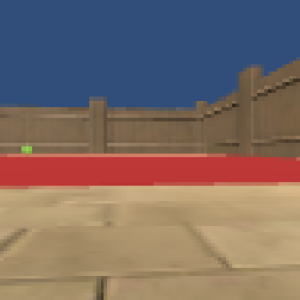deathZone: (1, 154, 300, 189)
goodGoal: (21, 144, 35, 156)
